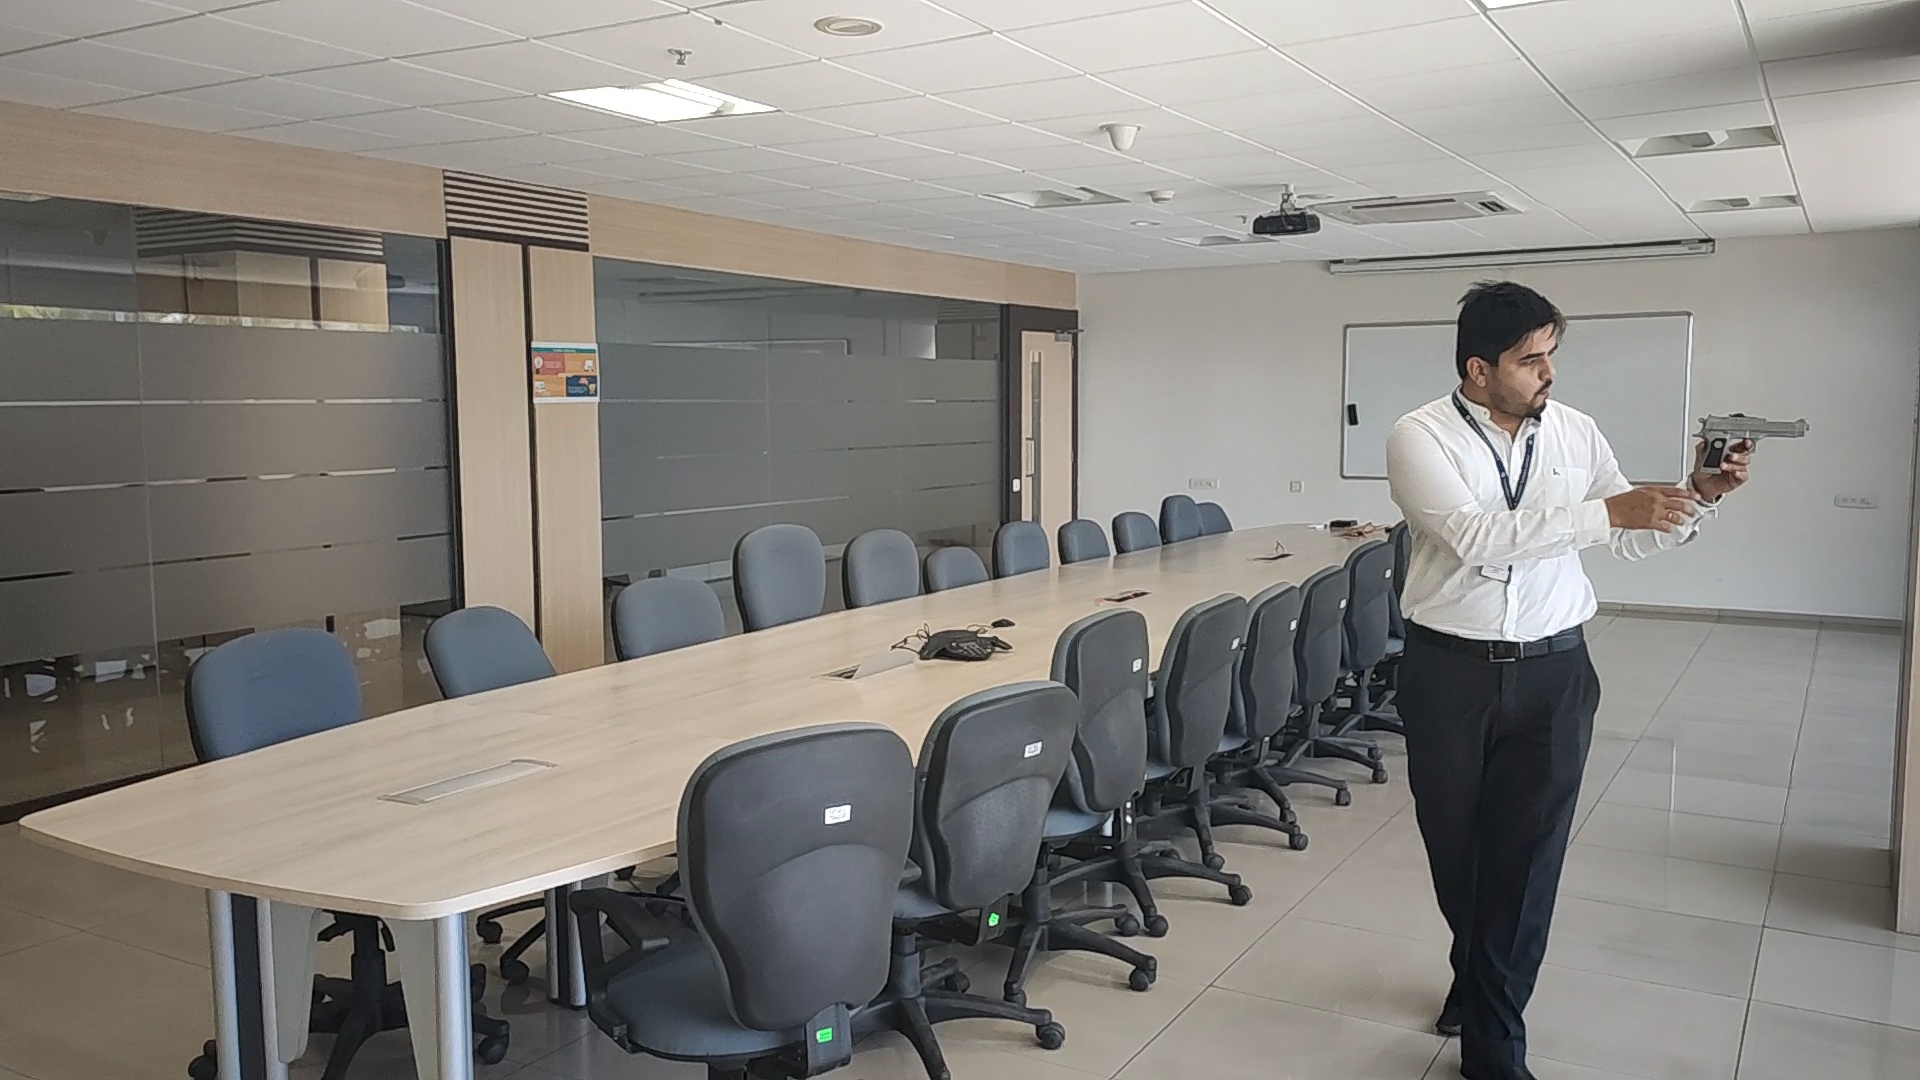gun: (1691, 411, 1811, 454)
